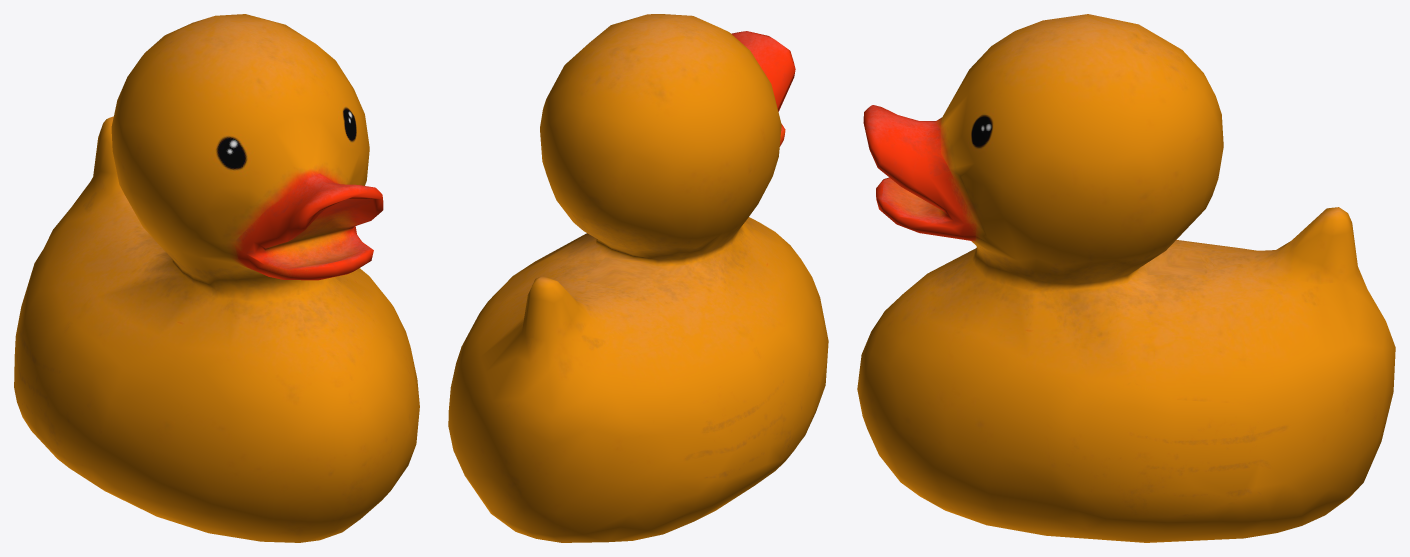
The model's file is rubber_duck_01_01.glb.
3 renders of one model, left to right at view 1: azimuth 30°, elevation 25°; view 2: azimuth 150°, elevation 25°; view 3: azimuth 270°, elevation 25°, orthographic. The views are drawn at different scales.
Visible parts, largest first — view 1: rubber_duck_toy; view 2: rubber_duck_toy; view 3: rubber_duck_toy.
Part boxes in pixels (x1=…): rubber_duck_toy: x1=14, y1=14, x2=419, y2=542; rubber_duck_toy: x1=448, y1=14, x2=828, y2=542; rubber_duck_toy: x1=857, y1=14, x2=1395, y2=542.
Size of the model in its own units: 0.2136 by 0.2861 by 0.2997.
Materials: 1 (1 with a texture image).
